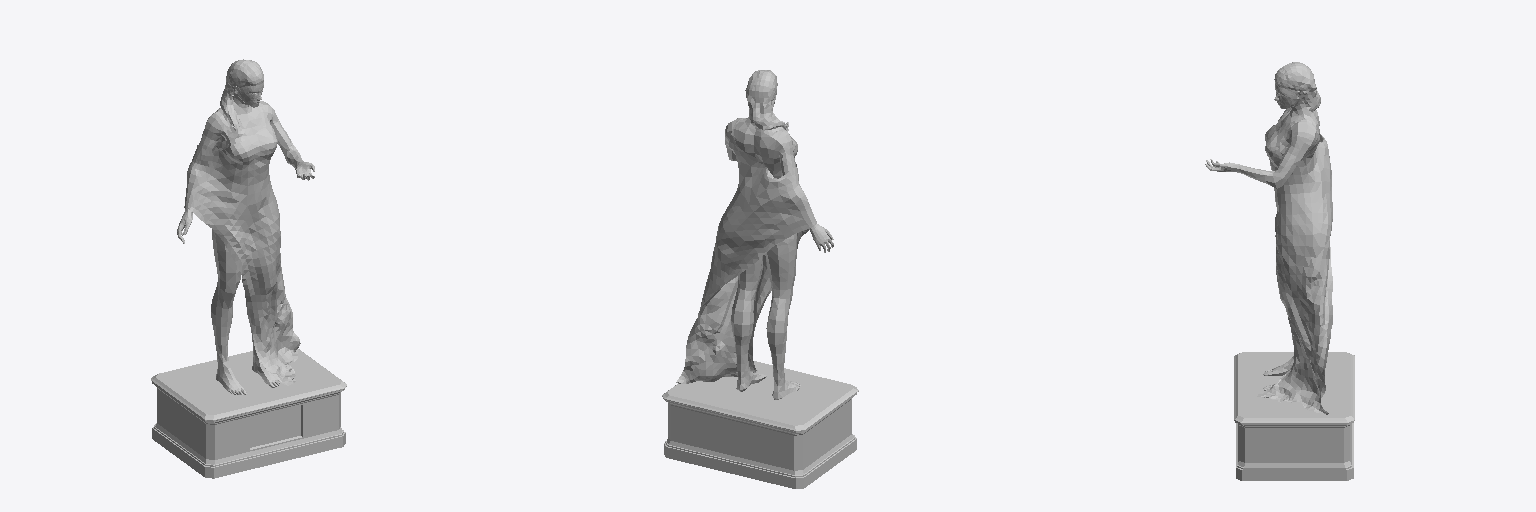
Rendered from status.obj.
3 views of the same model, side by side, from view 1: azimuth 30°, elevation 25°; view 2: azimuth 150°, elevation 25°; view 3: azimuth 270°, elevation 25° (orthographic).
Parts seen in each view (by area): view 1: Statue; view 2: Statue; view 3: Statue.
Boxes of the visible parts, <box> form: Statue: <box>151,59,346,478</box>; Statue: <box>662,70,858,488</box>; Statue: <box>1205,62,1354,480</box>.
Size of the model in its own units: 69.43 by 176 by 62.76.